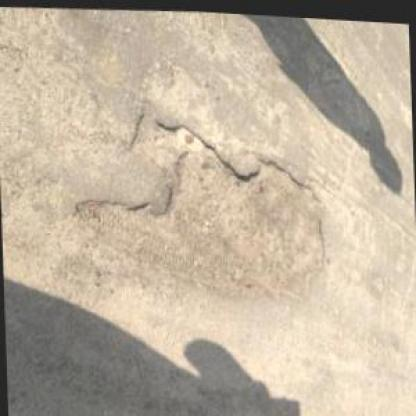pothole: (68, 89, 331, 310)
